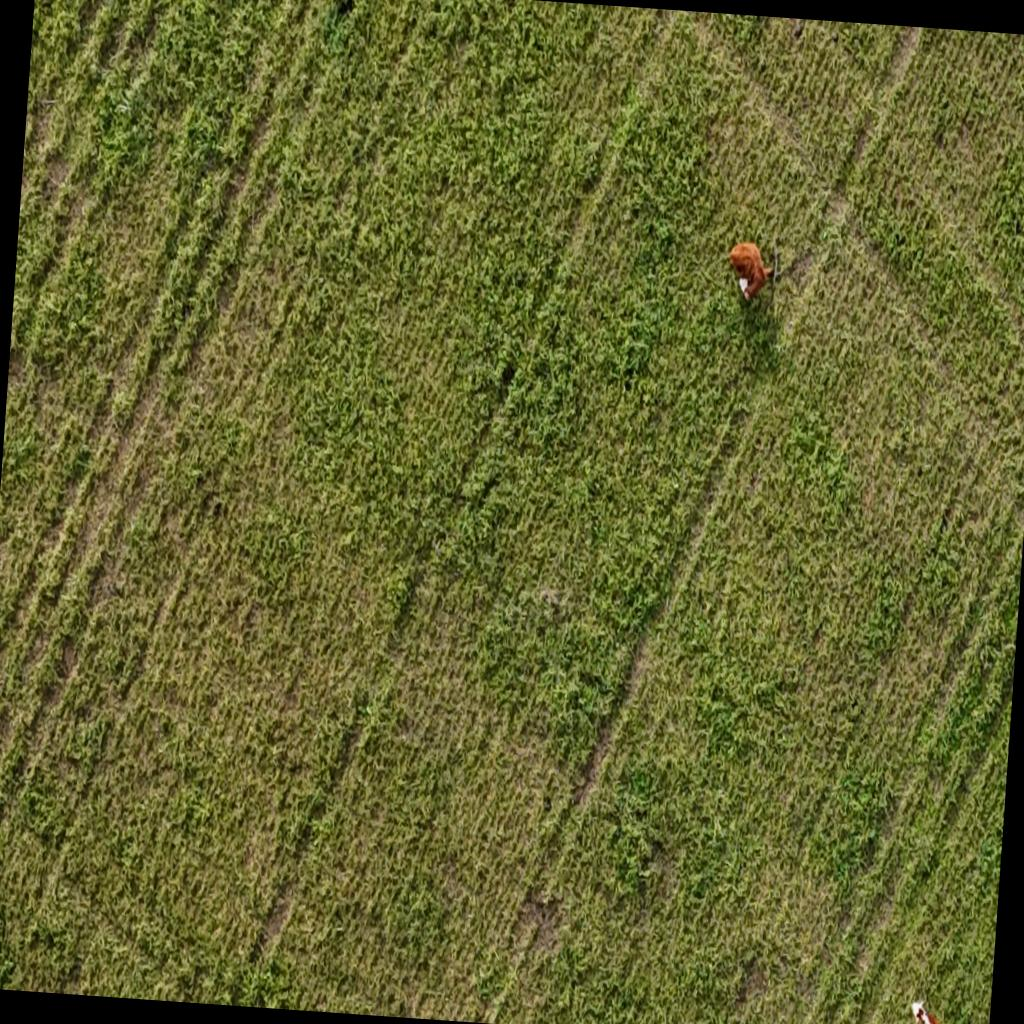cow: (722, 236, 780, 314), (905, 993, 967, 1024)
